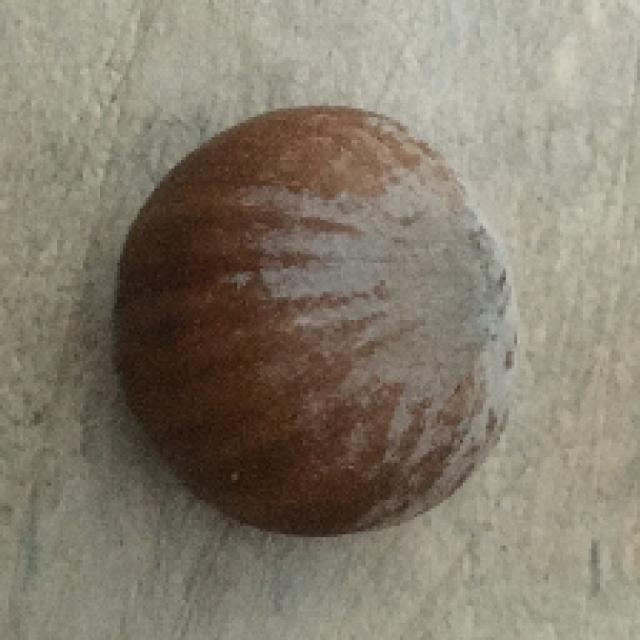QualityHazelnut: (116, 102, 530, 536)
